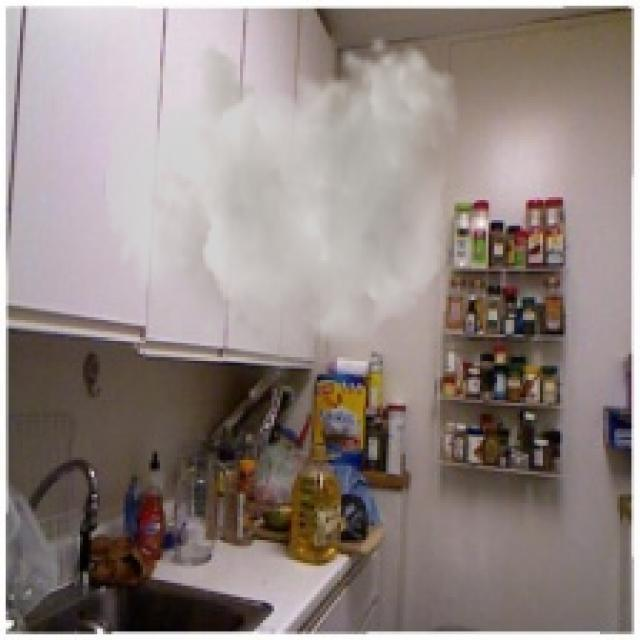Smoke: (103, 31, 460, 392)
